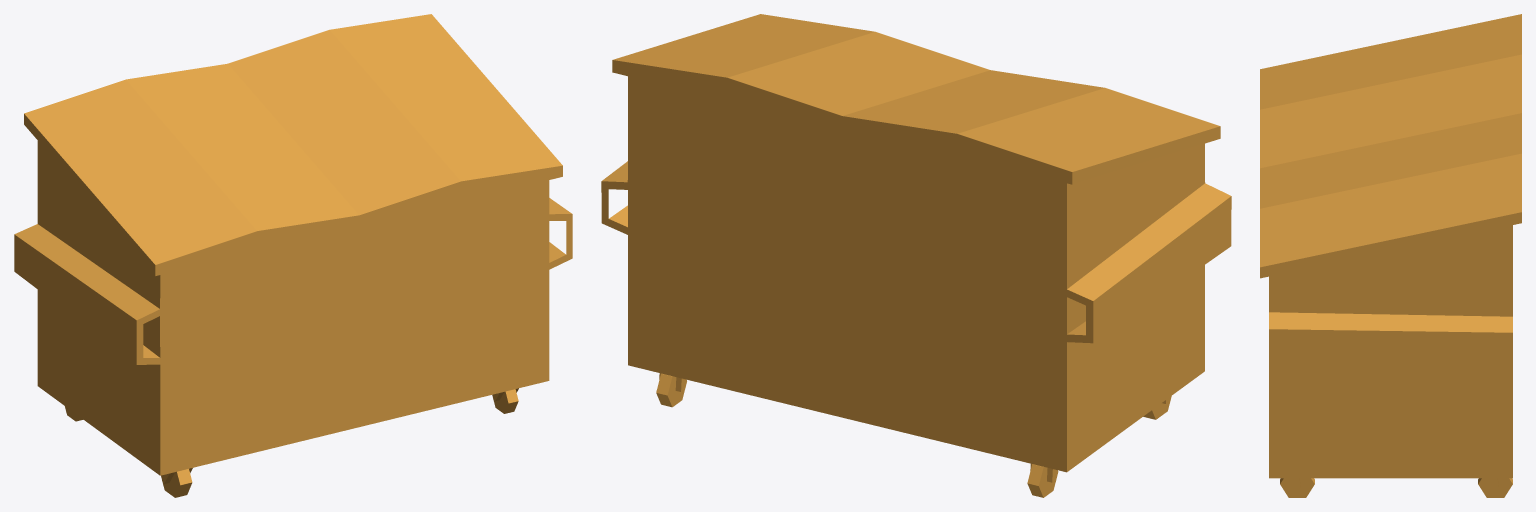
The model's file is dumpster.glb.
The picture shows the model from 3 angles, left to right: view 1: azimuth 30°, elevation 25°; view 2: azimuth 150°, elevation 25°; view 3: azimuth 270°, elevation 25°; orthographic projection. The views are drawn at different scales.
Visible parts, largest first — view 1: dumpster; view 2: dumpster; view 3: dumpster.
Part boxes in pixels (x1,y1,x2,y2): dumpster: [14, 14, 572, 497]; dumpster: [601, 14, 1231, 497]; dumpster: [1260, 14, 1521, 497].
Bounding box in the file's own units: 2.05 × 1.42 × 1.07.
